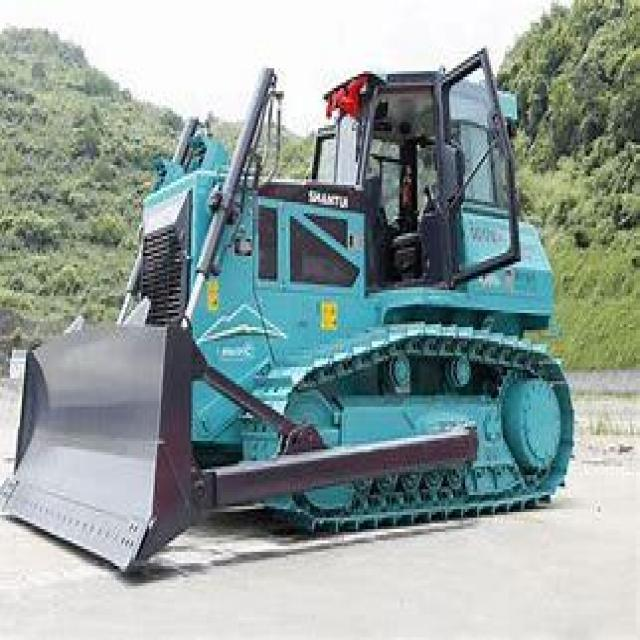Bulldozer: (2, 37, 582, 592)
